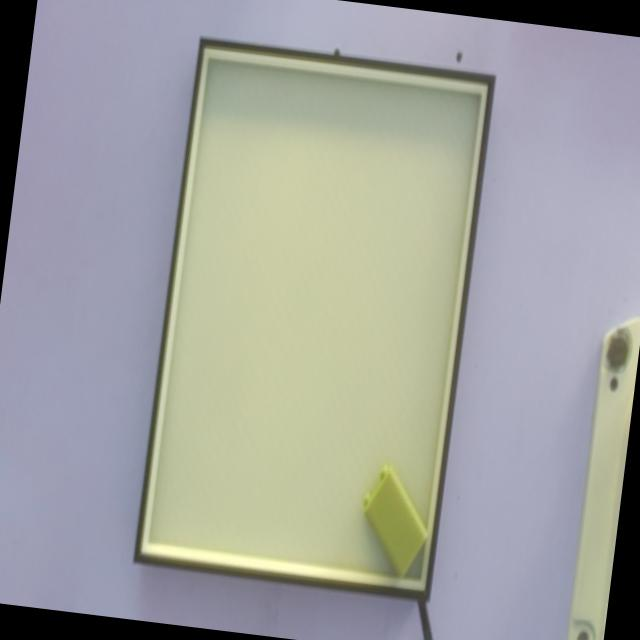bateria: (361, 465, 428, 580)
mesa: (132, 38, 495, 601)
